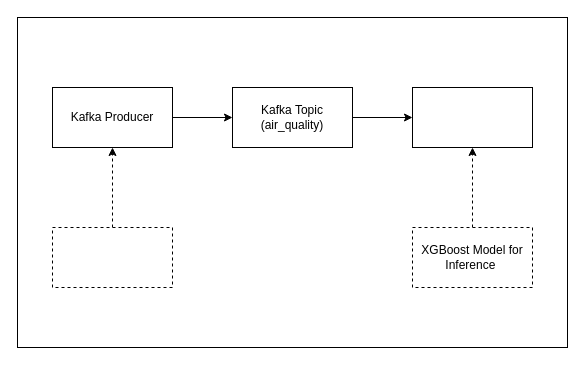
Image size: 585x365. Some labels were removed from this diagram. Here are the shapes that lost their labels. From the top down, the centre of each, then its label:
At point 472,117: "Kafka Consumer (Predictions based on sensor data)".
At point 112,257: "Data Source (Test Dataset)".
